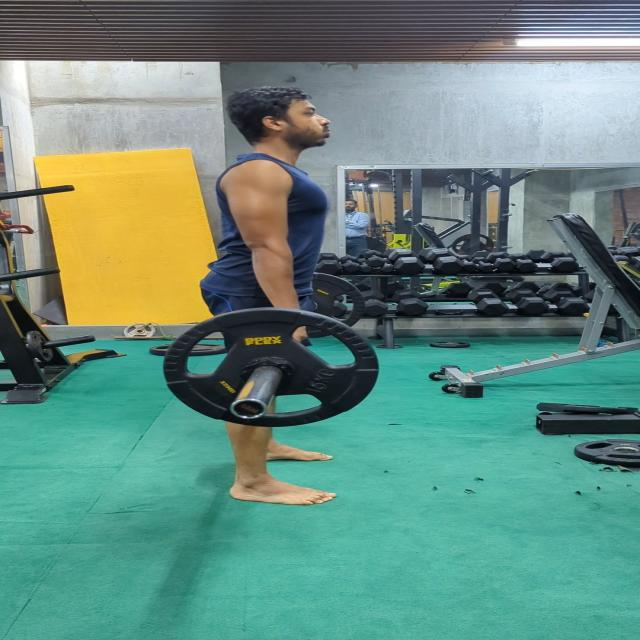Normal_Deadlifts: (187, 86, 342, 508)
